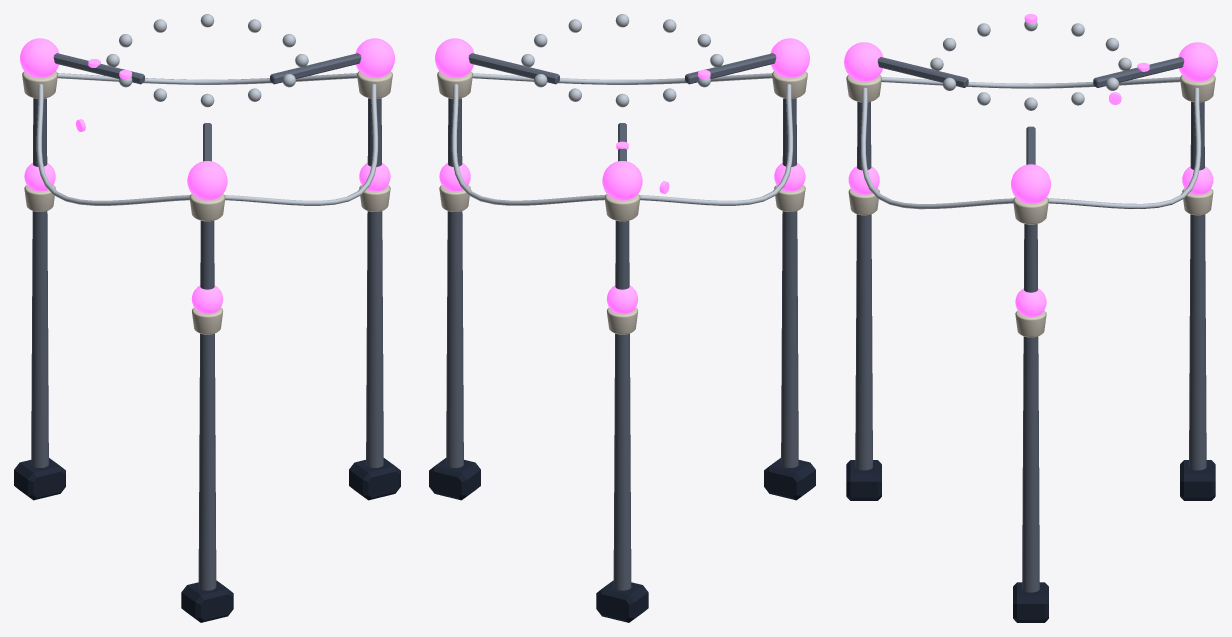
The model's file is tower_arc_range_s6.glb.
The picture shows the model from 3 angles, left to right: view 1: azimuth 30°, elevation 25°; view 2: azimuth 150°, elevation 25°; view 3: azimuth 270°, elevation 25°; orthographic projection.
Visible parts, largest first — view 1: arc_sat_strut2, arc_sat_strut0, arc_sat_strut1, arc_sat_foot2, arc_sat_foot1, arc_sat_foot0, arc_relay_wire1, arc_relay_wire2, arc_relay_wire0, arc_sat_electrode2, arc_sat_electrode0, arc_sat_electrode1 (+11 smaller); view 2: arc_sat_strut0, arc_sat_strut1, arc_sat_strut2, arc_sat_foot0, arc_sat_foot1, arc_sat_foot2, arc_relay_wire2, arc_relay_wire0, arc_relay_wire1, arc_sat_electrode0, arc_sat_electrode1, arc_sat_electrode2 (+11 smaller); view 3: arc_sat_strut1, arc_sat_strut0, arc_sat_strut2, arc_relay_wire0, arc_relay_wire1, arc_relay_wire2, arc_sat_electrode1, arc_sat_foot0, arc_sat_foot2, arc_sat_foot1, arc_sat_electrode0, arc_sat_electrode2 (+11 smaller).
Part boxes in pixels (x1=…): arc_sat_strut2: x1=198, y1=220, x2=216, y2=590; arc_sat_strut0: x1=31, y1=98, x2=48, y2=467; arc_sat_strut1: x1=366, y1=98, x2=383, y2=467; arc_sat_foot2: x1=181, y1=580, x2=233, y2=622; arc_sat_foot1: x1=349, y1=458, x2=400, y2=500; arc_sat_foot0: x1=14, y1=458, x2=65, y2=500; arc_relay_wire1: x1=225, y1=84, x2=378, y2=205; arc_relay_wire2: x1=36, y1=84, x2=189, y2=205; arc_relay_wire0: x1=57, y1=73, x2=357, y2=84; arc_sat_electrode2: x1=187, y1=161, x2=227, y2=200; arc_sat_electrode0: x1=20, y1=38, x2=59, y2=77; arc_sat_electrode1: x1=355, y1=38, x2=394, y2=77; arc_sat_strut0: x1=613, y1=220, x2=631, y2=590; arc_sat_strut1: x1=446, y1=98, x2=463, y2=467; arc_sat_strut2: x1=781, y1=98, x2=798, y2=467; arc_sat_foot0: x1=596, y1=580, x2=648, y2=622; arc_sat_foot1: x1=429, y1=458, x2=480, y2=500; arc_sat_foot2: x1=764, y1=458, x2=815, y2=500; arc_relay_wire2: x1=640, y1=84, x2=793, y2=205; arc_relay_wire0: x1=451, y1=84, x2=604, y2=205; arc_relay_wire1: x1=472, y1=73, x2=772, y2=84; arc_sat_electrode0: x1=602, y1=161, x2=642, y2=200; arc_sat_electrode1: x1=435, y1=38, x2=474, y2=77; arc_sat_electrode2: x1=770, y1=38, x2=809, y2=77; arc_sat_strut1: x1=1022, y1=224, x2=1039, y2=592; arc_sat_strut0: x1=1189, y1=101, x2=1206, y2=470; arc_sat_strut2: x1=855, y1=101, x2=872, y2=470; arc_relay_wire0: x1=1048, y1=87, x2=1201, y2=208; arc_relay_wire1: x1=861, y1=87, x2=1013, y2=209; arc_relay_wire2: x1=881, y1=77, x2=1180, y2=88; arc_sat_electrode1: x1=1011, y1=164, x2=1050, y2=203; arc_sat_foot0: x1=1180, y1=460, x2=1215, y2=500; arc_sat_foot2: x1=846, y1=460, x2=881, y2=500; arc_sat_foot1: x1=1013, y1=582, x2=1048, y2=622; arc_sat_electrode0: x1=1178, y1=42, x2=1217, y2=81; arc_sat_electrode2: x1=844, y1=42, x2=883, y2=81.
Size of the model in its own units: 1.75 by 2.36 by 1.67.
